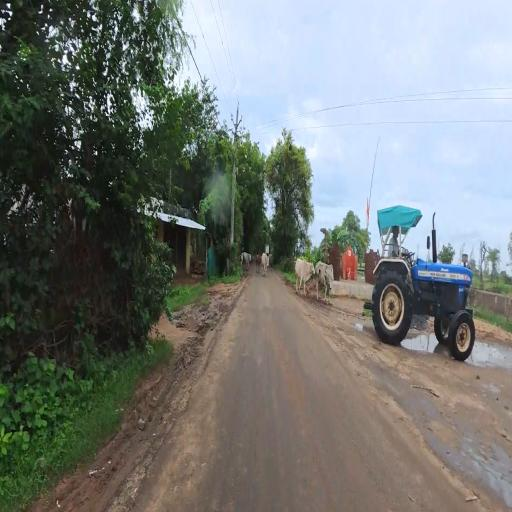edge_damage: (133, 389, 193, 511)
